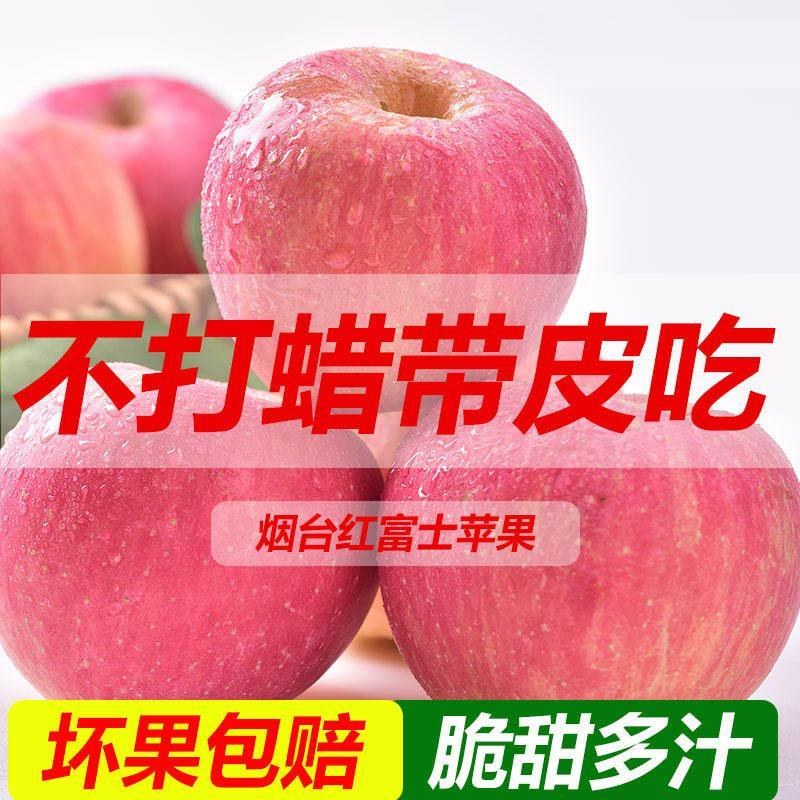apple: (197, 43, 592, 406), (381, 390, 799, 700), (5, 365, 381, 697), (13, 75, 230, 273)
